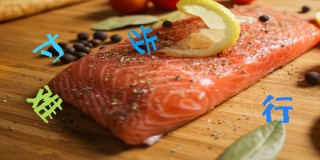寸: (32, 32, 66, 65)
步: (126, 23, 160, 55)
行: (261, 94, 294, 126)
难: (26, 84, 63, 125)
